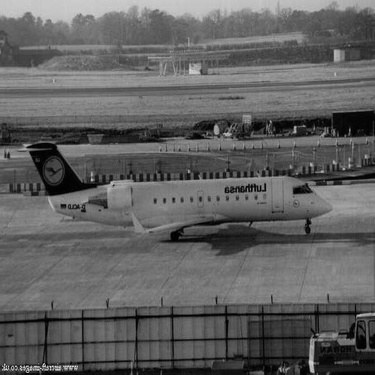airplane: (10, 120, 340, 247)
